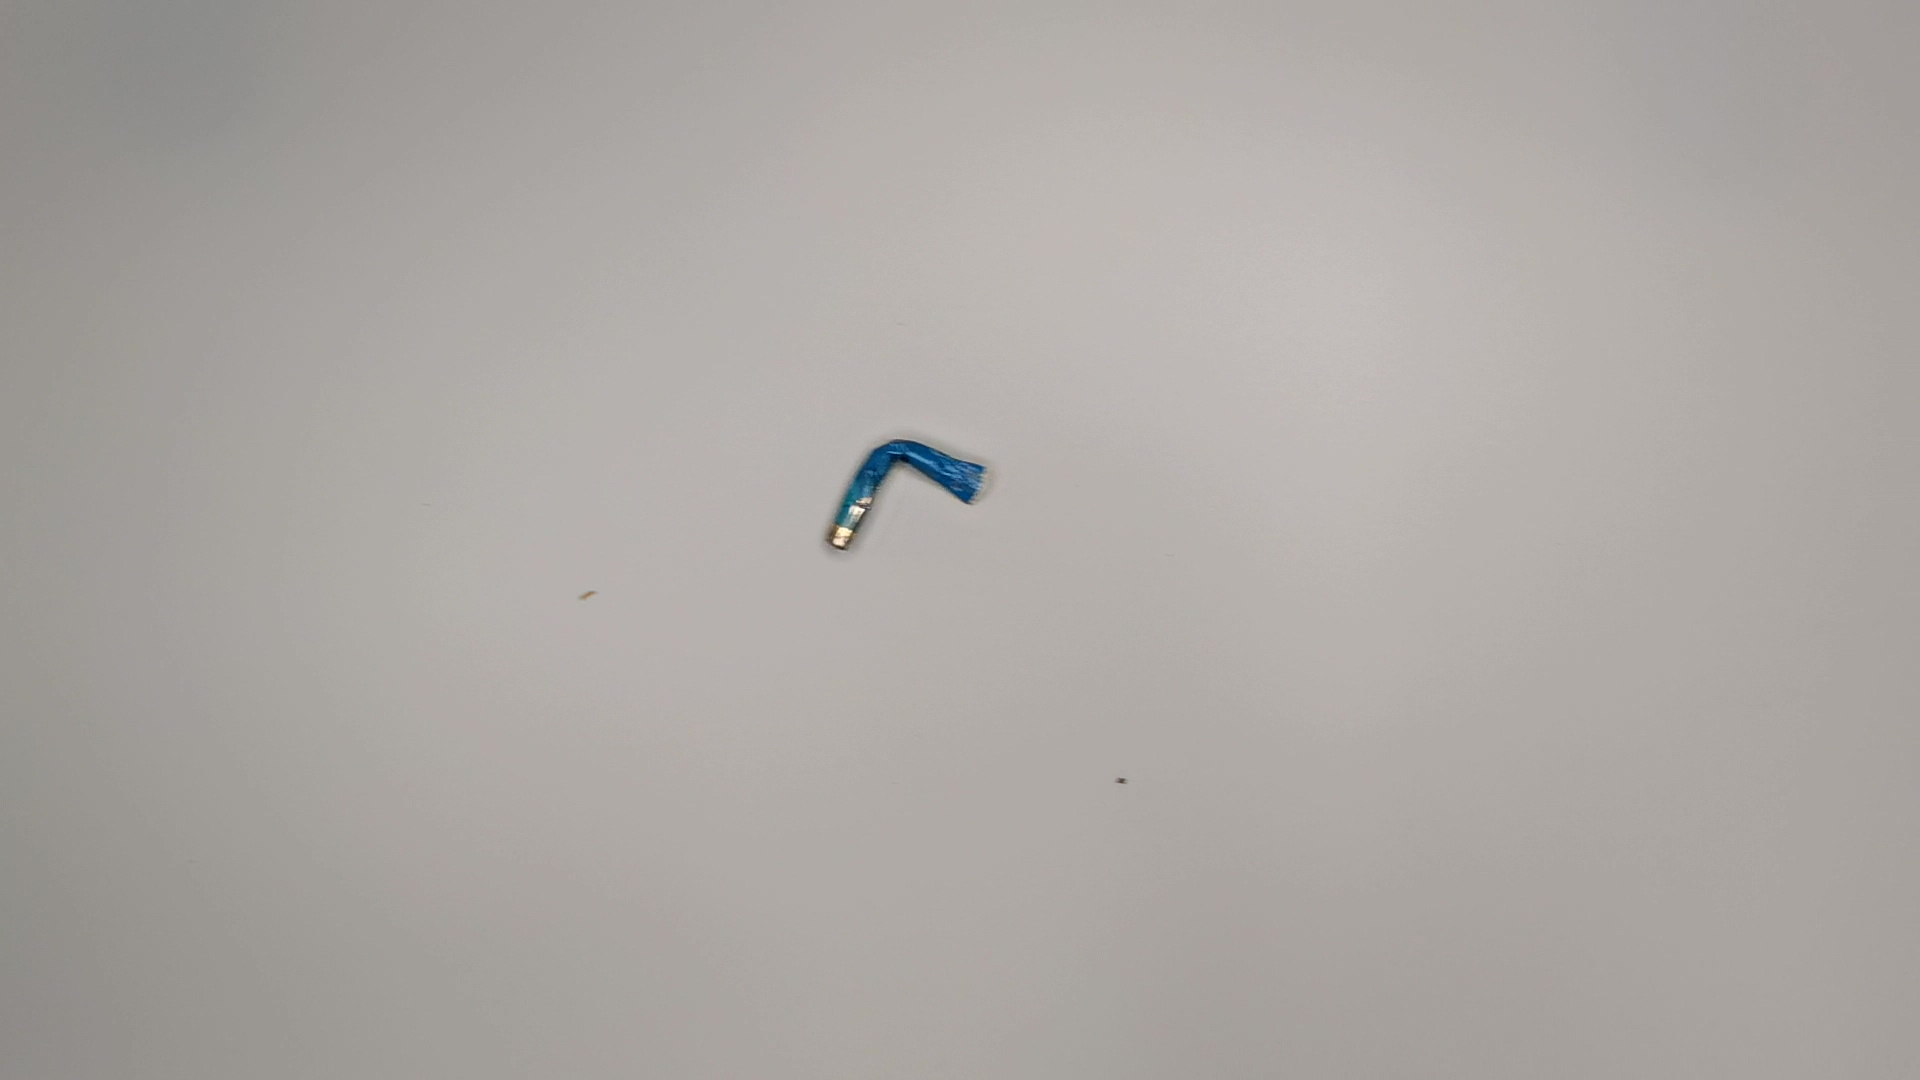cigarette: (803, 434, 1010, 553)
